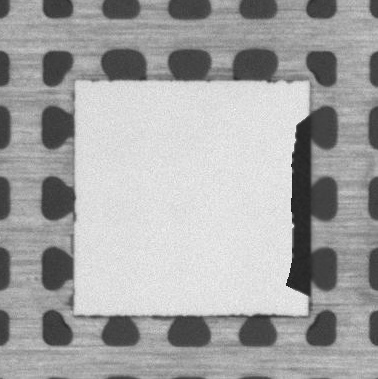DIE_BROKEN: (285, 118, 313, 297)
